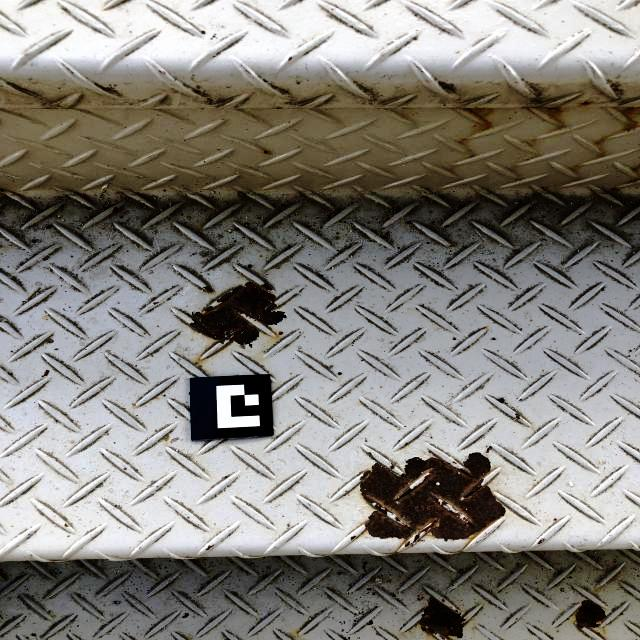Corrosion: (357, 451, 506, 547), (188, 280, 287, 349), (418, 596, 467, 640), (574, 599, 607, 630), (201, 285, 214, 294), (349, 535, 357, 542), (582, 101, 590, 105), (516, 414, 521, 419), (264, 150, 269, 154), (0, 188, 5, 192)
